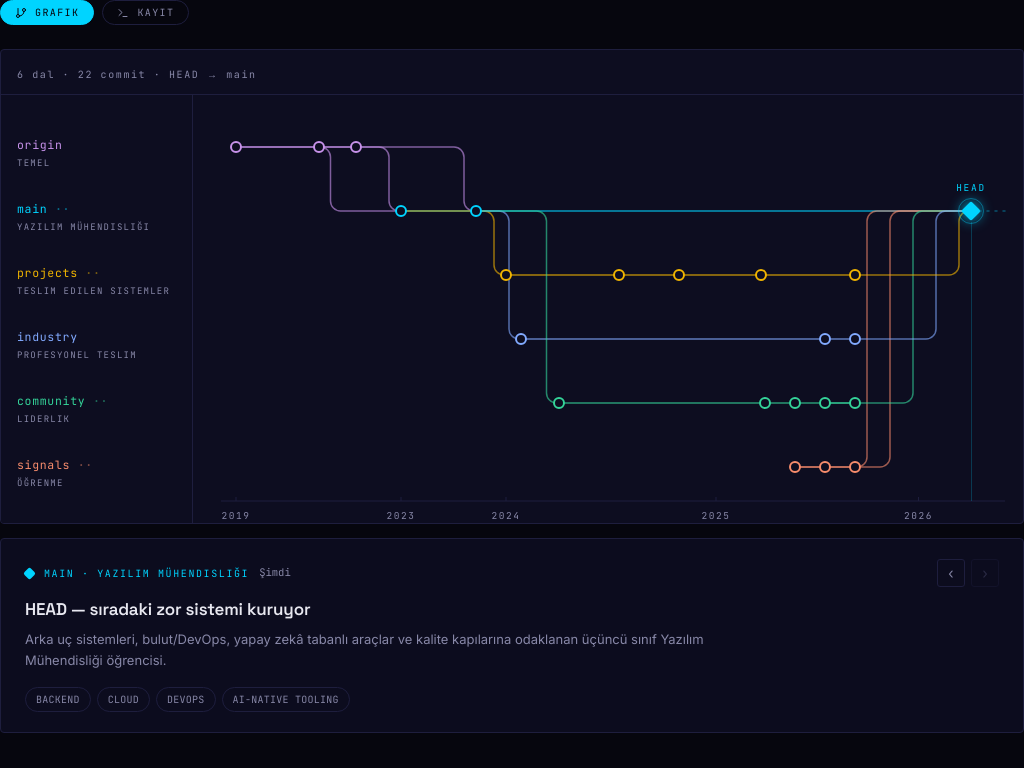
Test: CareerViews › renders the same history in Turkish
Click the button "kayıt": (146, 12) left=102, top=0, right=189, bottom=25
(page scrolled)
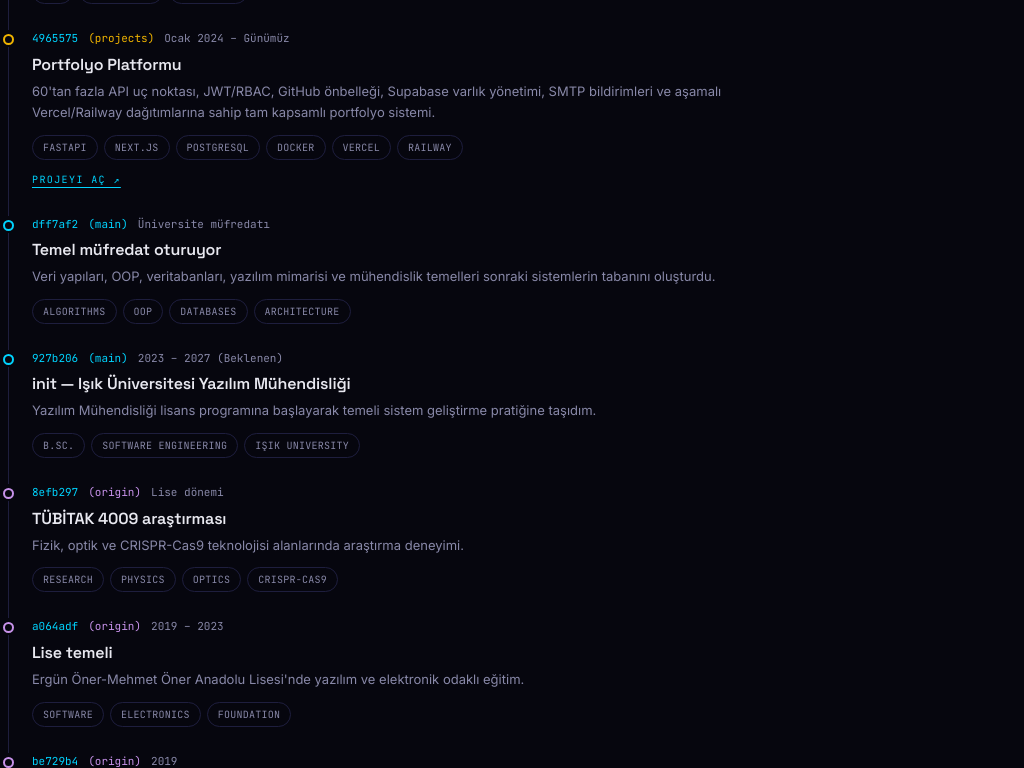
Check: the heading "Lise temeli" is shown, box left=32, top=642, right=112, bottom=663
Check: the heading "init — Işık Üniversitesi Yazılım Mühendisliği" is shown, box left=32, top=373, right=350, bottom=394
